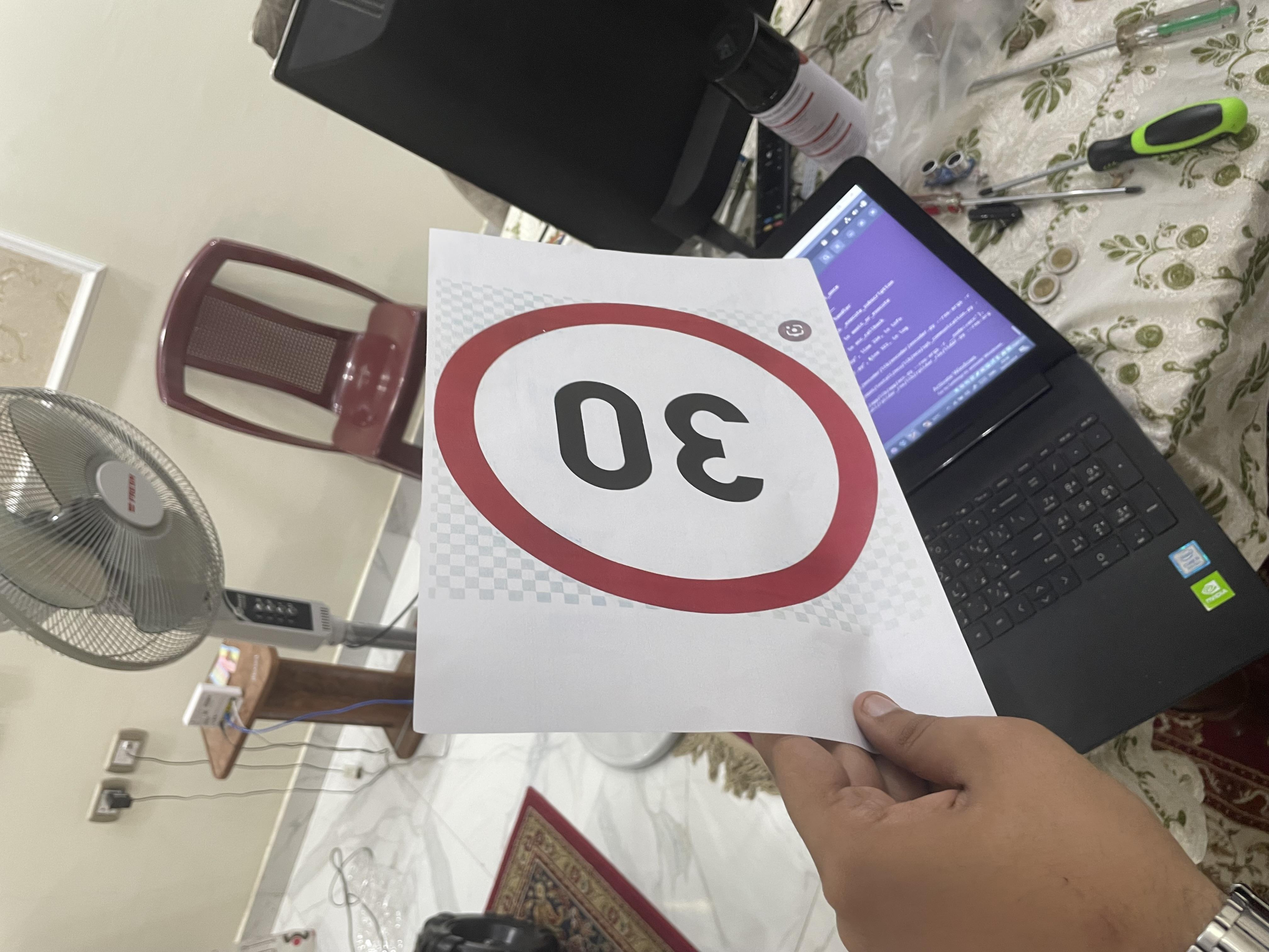30-speed: (462, 319, 865, 659)
